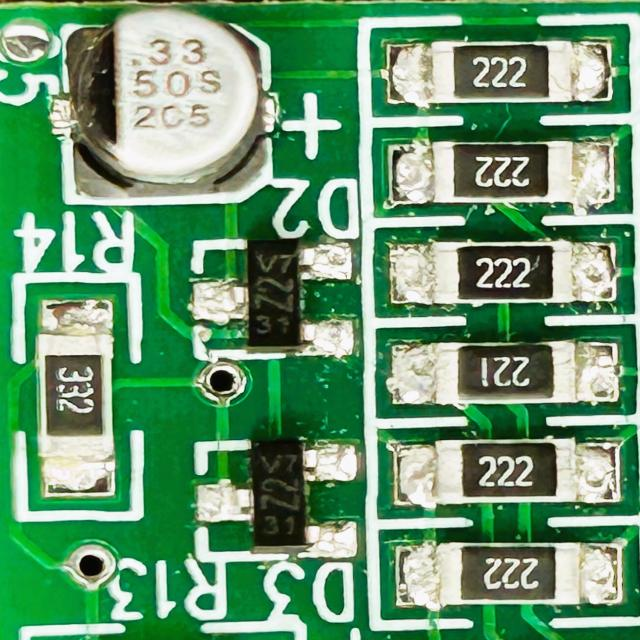4439: (210, 242, 334, 359), (217, 446, 323, 548)
capacitor 1V5: (56, 9, 272, 200)
resistor IR1: (37, 320, 118, 480), (441, 338, 583, 411), (432, 440, 580, 506), (445, 545, 580, 611), (431, 241, 572, 302), (427, 41, 569, 100), (431, 142, 579, 198)
